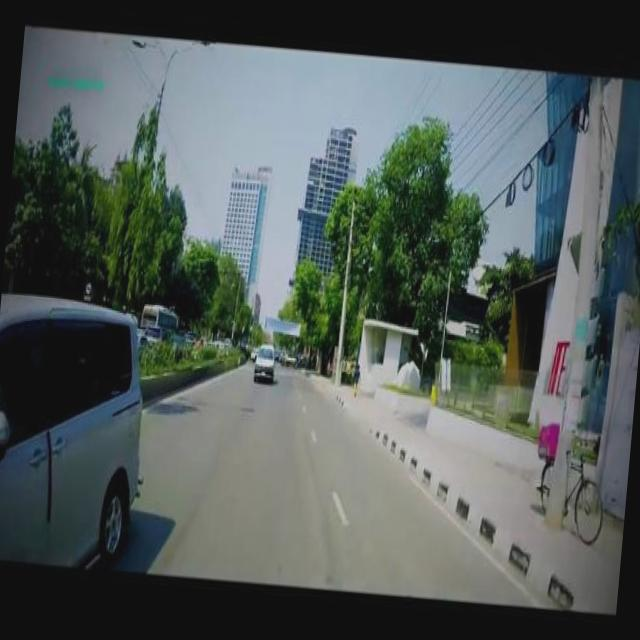bus: (139, 300, 179, 328)
truck: (0, 289, 152, 565), (252, 338, 275, 379)
